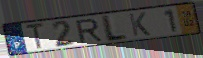1: (163, 8, 180, 33)
2: (50, 20, 77, 49)
K: (127, 11, 152, 38)
L: (101, 14, 129, 43)
R: (74, 17, 104, 44)
T: (25, 22, 46, 51)
